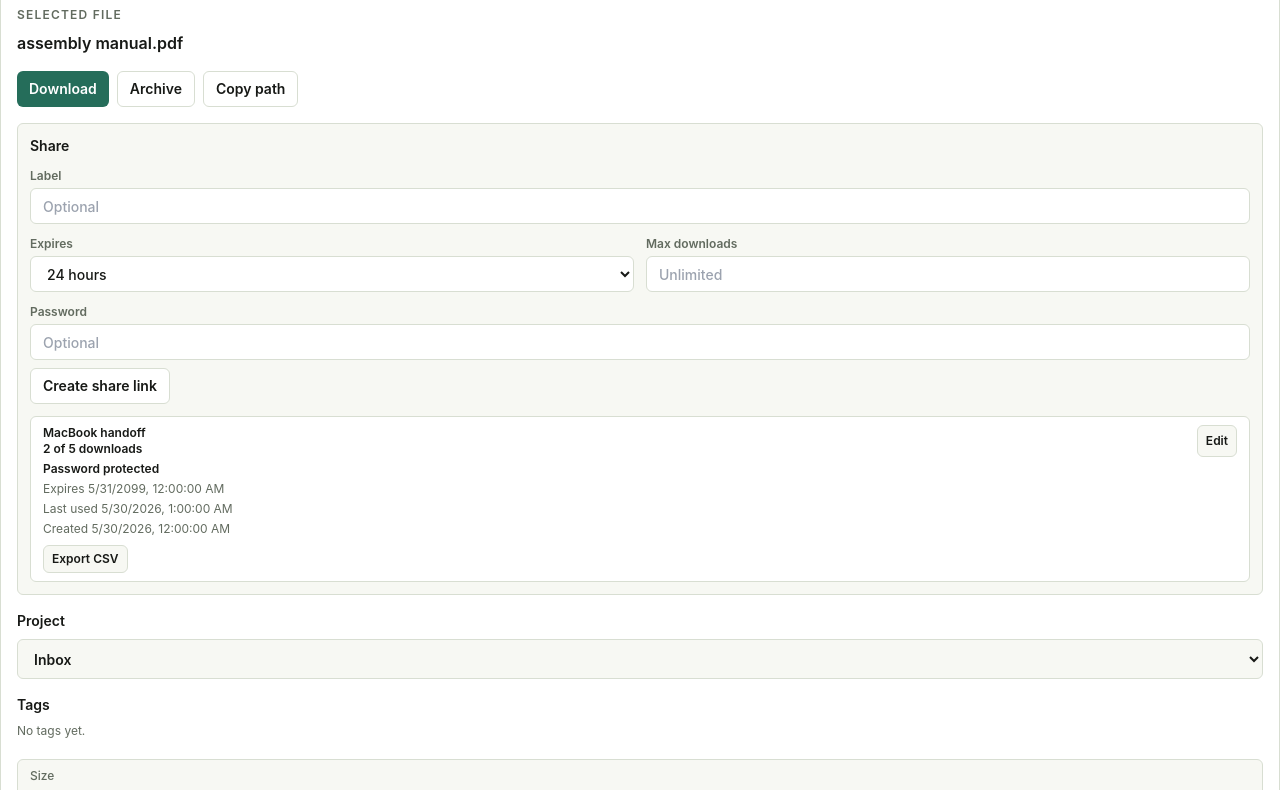
Test case: DetailDrawer › updates existing share link controls
Expected: the text "MacBook handoff" is shown, [43,425,146,440]
Click the button with aria-label "Edit share link": (1217, 441) [1197,425,1237,457]
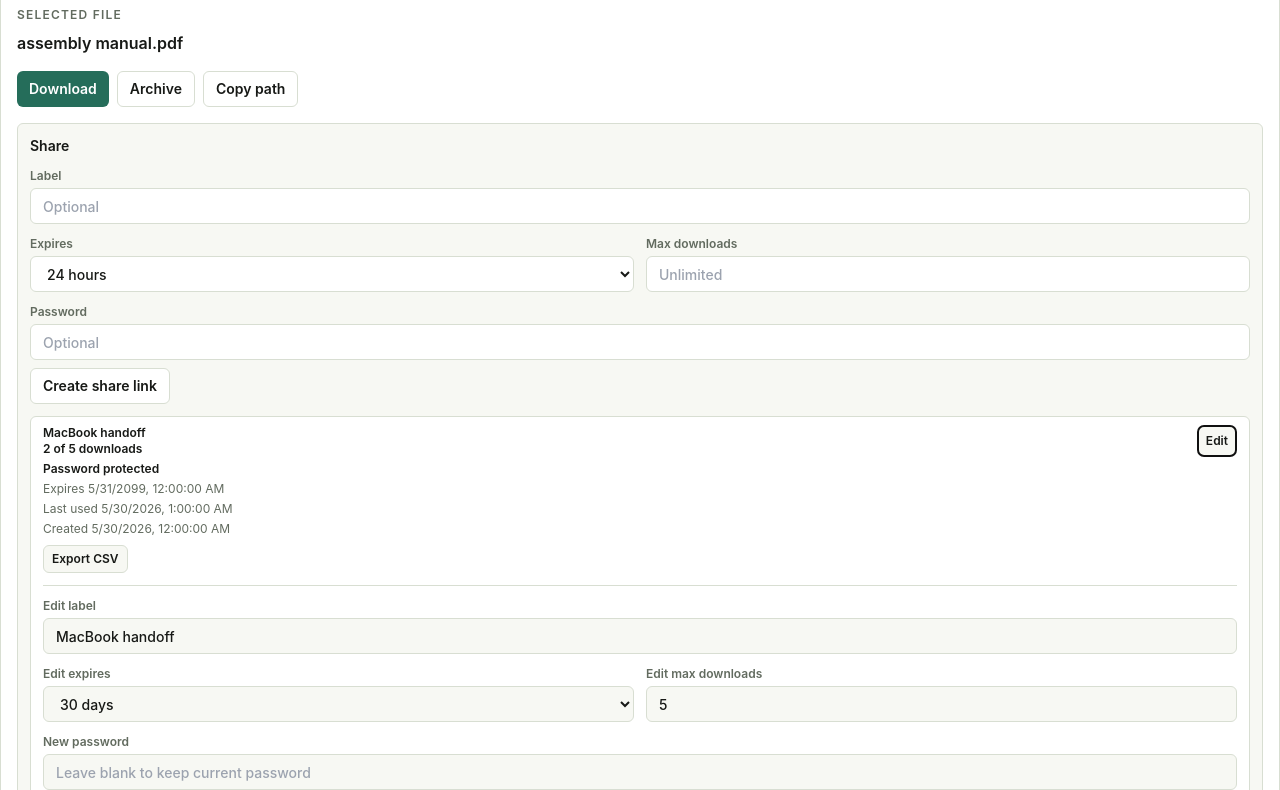
Replace the text in the field labelled "Edit label" with "Updated handoff": (640, 636) [43,618,1237,654]
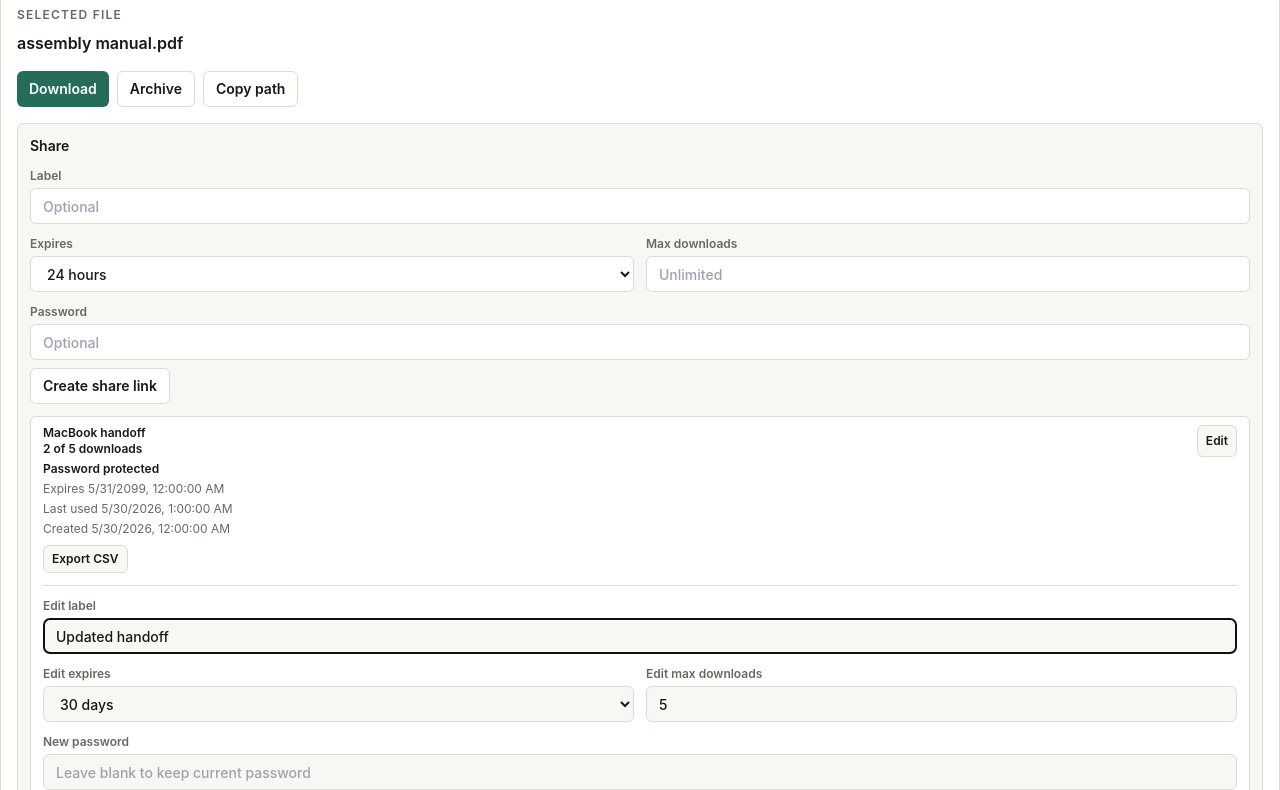
Select "7 days" in the dropdown labelled "Edit expires": (338, 704) [43,686,634,722]
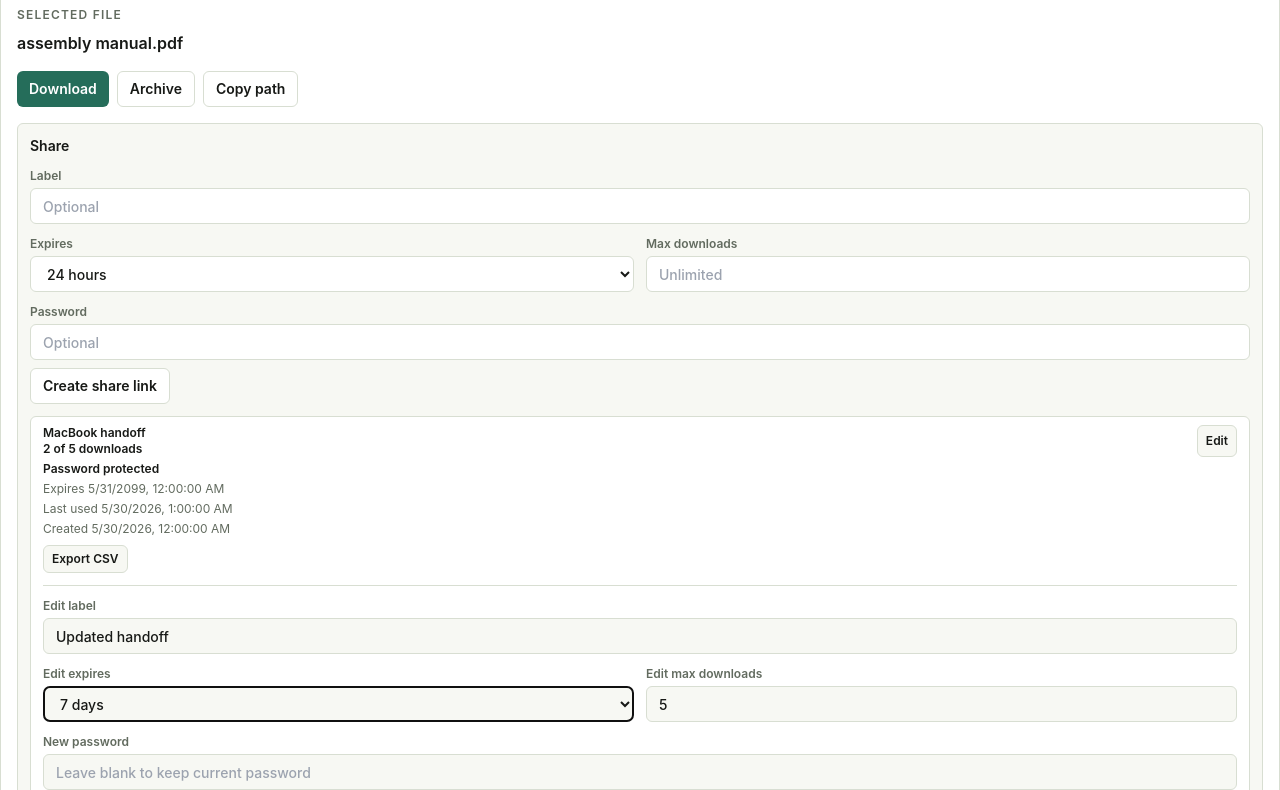
Replace the text in the number field labelled "Edit max downloads" with "4": (942, 704) [646,686,1237,722]
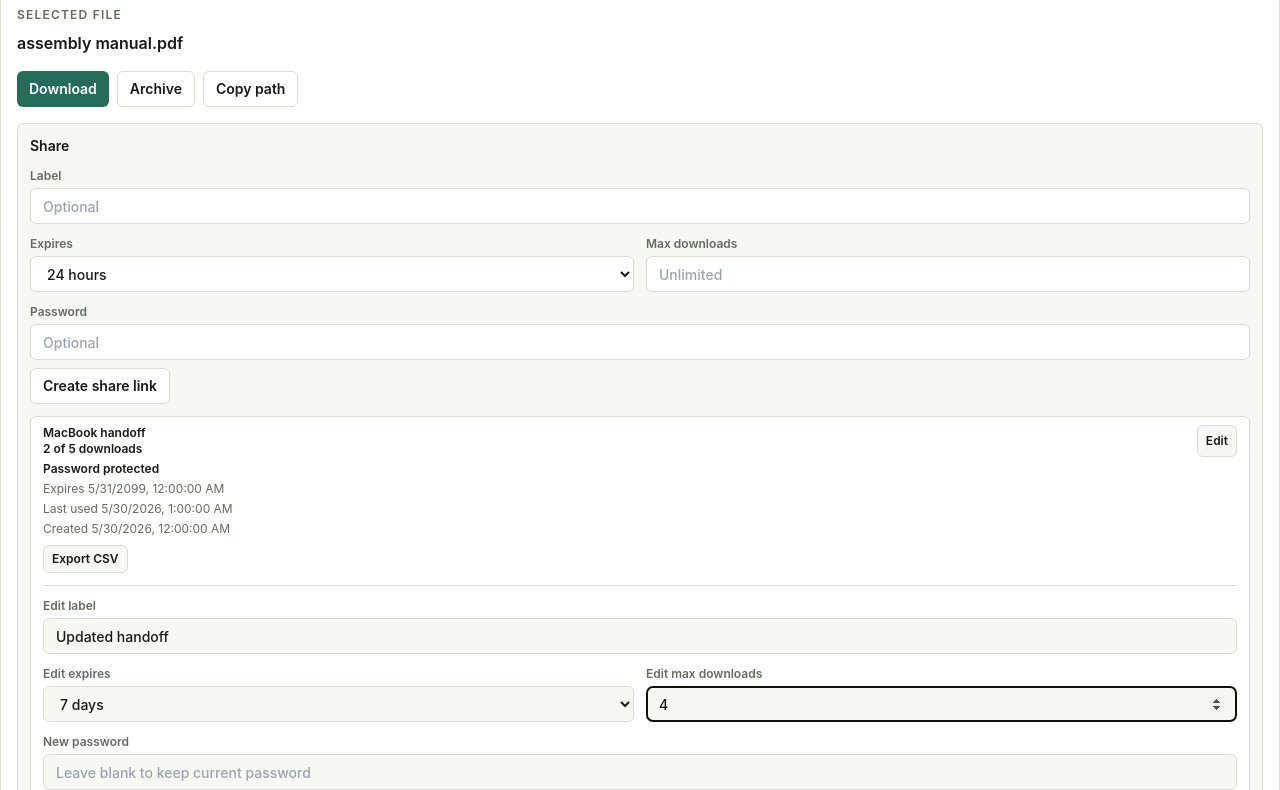
In the password field labelled "New password": (640, 772) [43,754,1237,789], type "correct horse"
(page scrolled)
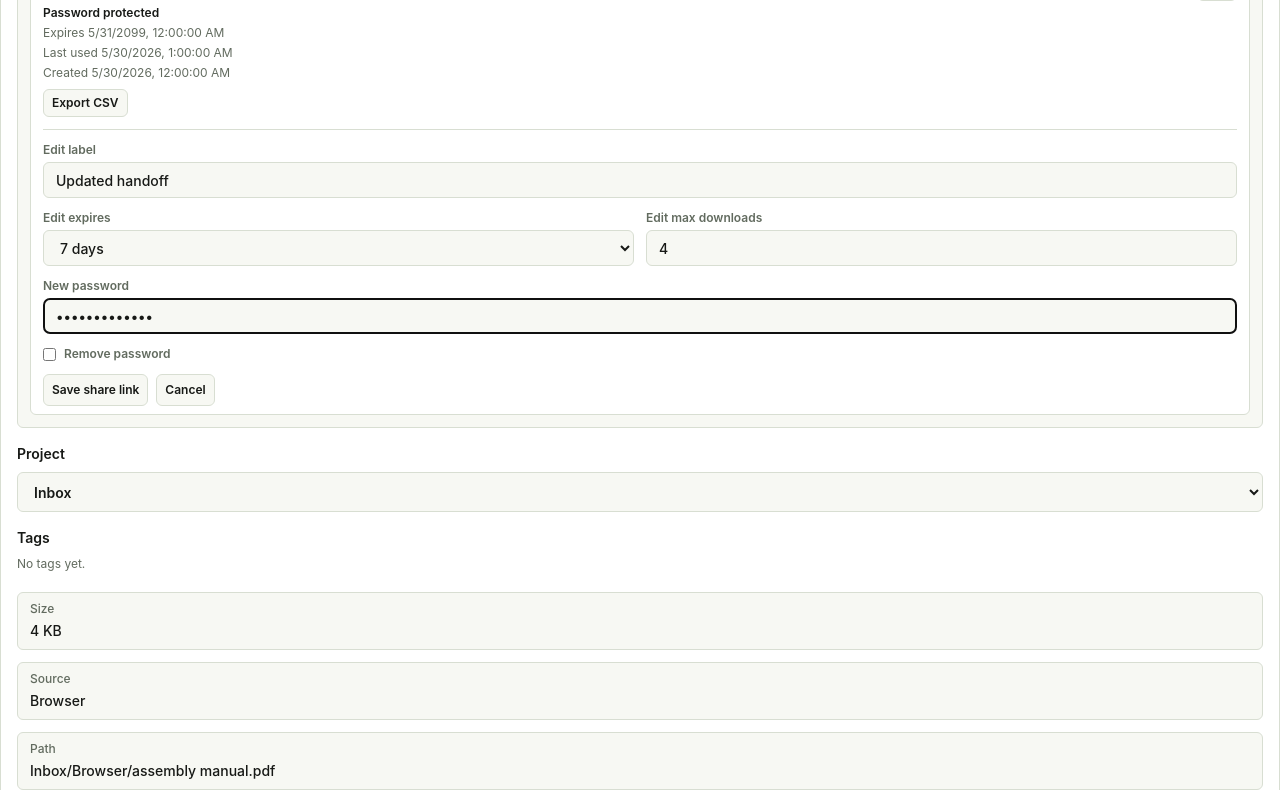
Click the button "Save share link": (96, 390) [43,374,148,406]
(page scrolled)
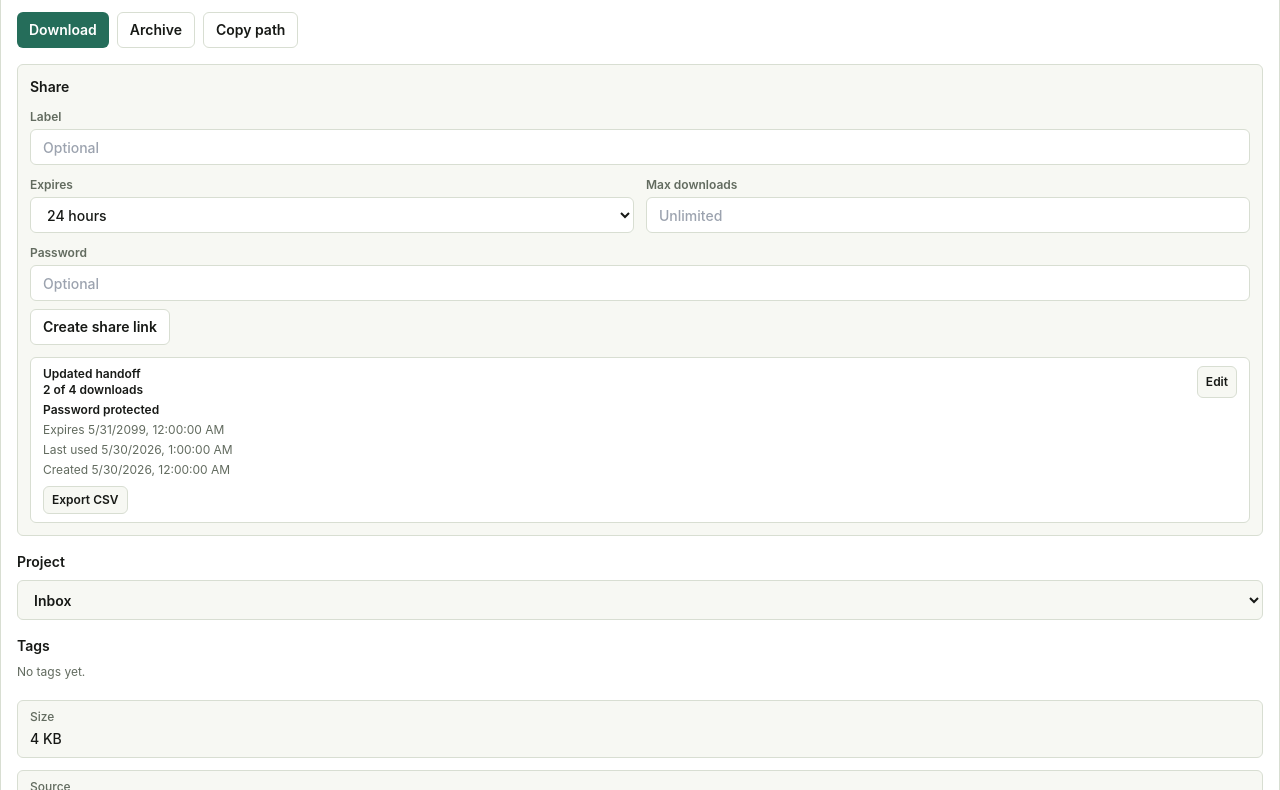
Expected: the text "Updated handoff" is shown, [43,366,141,381]
Expected: the text "2 of 4 downloads" is shown, [43,382,143,397]
